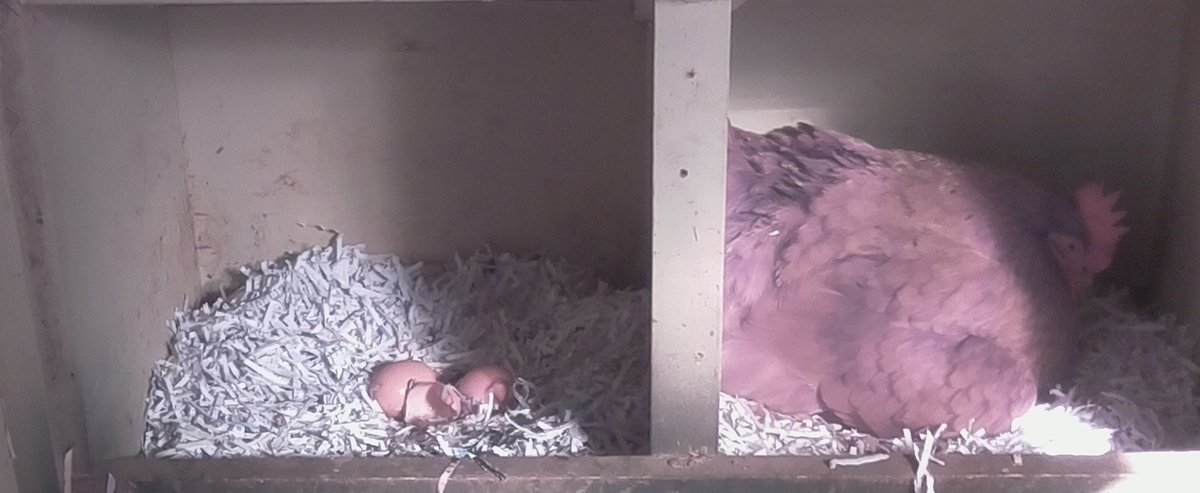egg: (366, 358, 443, 422), (449, 362, 518, 426)
hen: (732, 109, 1143, 442)
